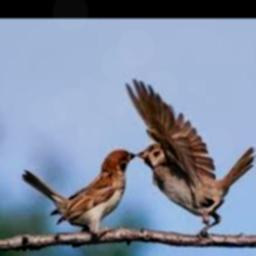Sparrow: (125, 80, 255, 236), (21, 149, 134, 240)
